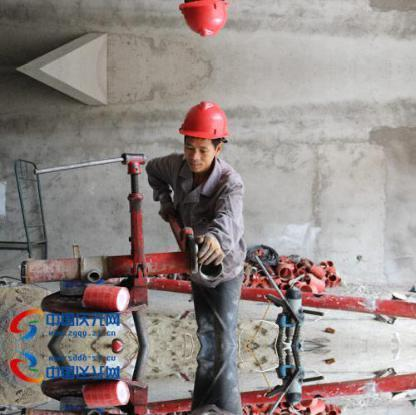helmet: (176, 94, 232, 140)
